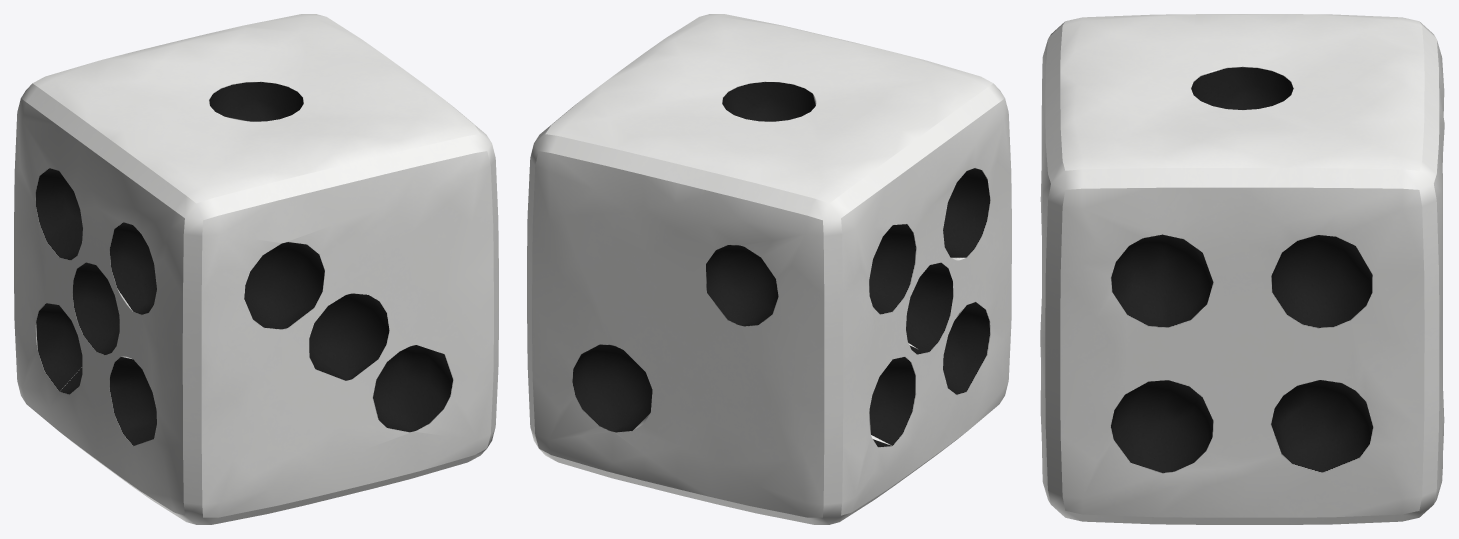
Rendered from Dice.fbx.
The picture shows the model from 3 angles, left to right: view 1: azimuth 30°, elevation 25°; view 2: azimuth 150°, elevation 25°; view 3: azimuth 270°, elevation 25°; orthographic projection. The views are drawn at different scales.
Parts seen in each view (by area): view 1: polySurface1; view 2: polySurface1; view 3: polySurface1.
Part boxes in pixels (x1,y1,x2,y2): polySurface1: (14,14,498,524); polySurface1: (527,14,1011,524); polySurface1: (1040,14,1444,524).
Bounding box in the file's own units: 1.01 × 1.03 × 1.01.
